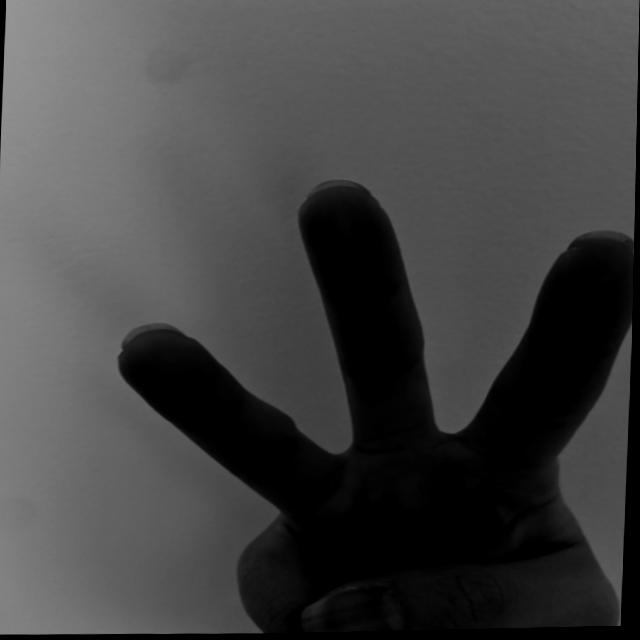W: (99, 162, 636, 637)
